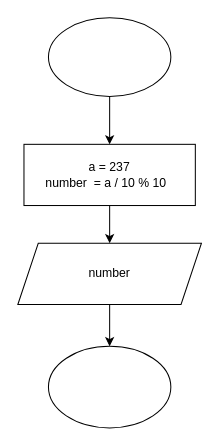
Some shapes in this 219 by 446 pixel diagram are drawn without their labels. The box of each missing label's shape, as (x1, y1, x2, y2) in pixels:
End: (47, 345, 171, 428)
Start: (47, 17, 171, 96)
